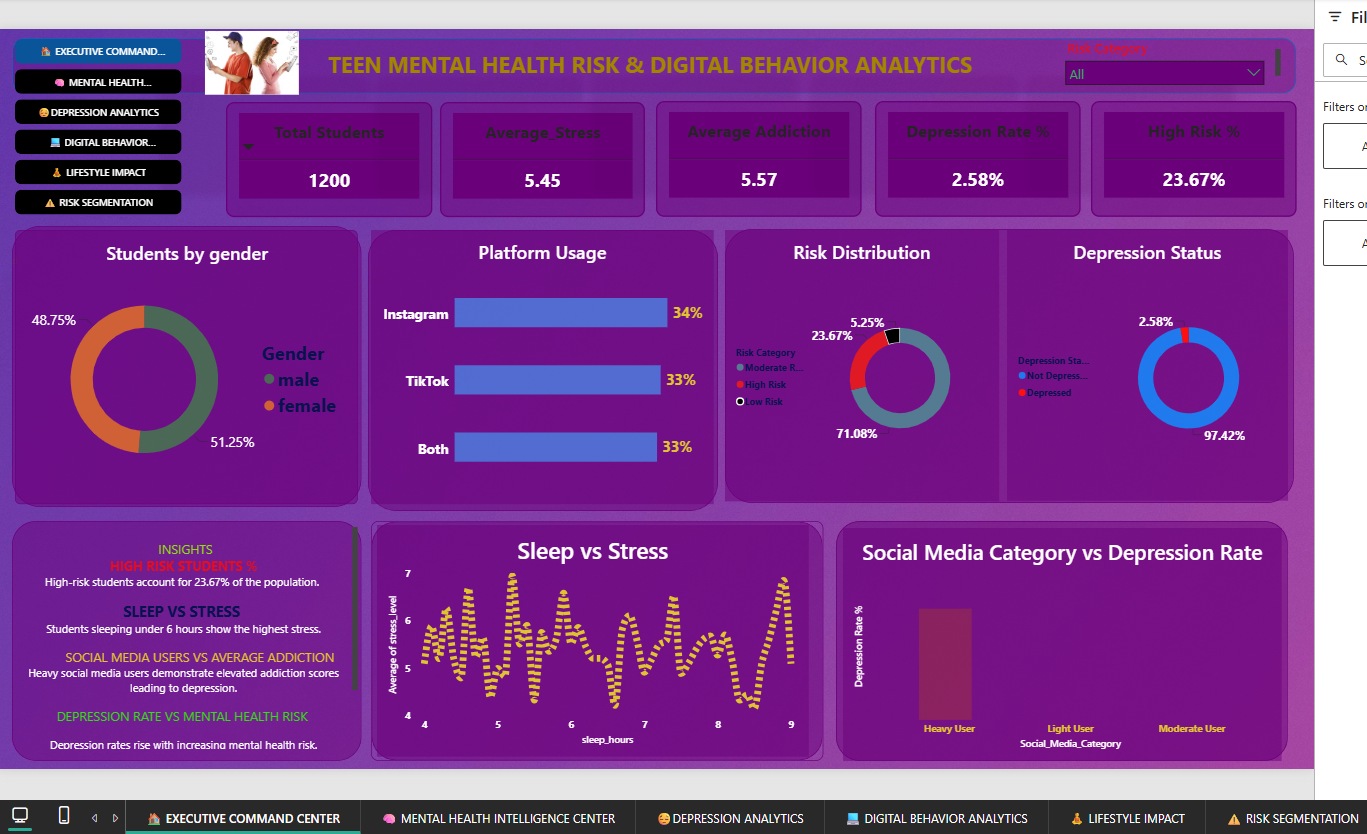

This screenshot's page, from the dashboard's own definition file:
{"tool":"powerbi","page":{"name":"🏠 EXECUTIVE COMMAND CENTER ","canvas":[1920,1080],"ordinal":0},"visuals":[{"type":"tableEx","fields":{"Values":["vw_mental_health_analytics.Total Students"]},"box":[332.6,106.5,300.5,167.8],"z":0},{"type":"tableEx","fields":{"Values":["vw_mental_health_analytics.Average_Stress"]},"box":[644.9,106.5,299.1,167.8],"z":1000},{"type":"tableEx","fields":{"Values":["vw_mental_health_analytics.Average Addiction"]},"box":[960.3,104.4,300,169.1],"z":2000},{"type":"tableEx","fields":{"Values":["vw_mental_health_analytics.Depression Rate %"]},"box":[1279.4,104.4,300,169.1],"z":3000},{"type":"tableEx","fields":{"Values":["vw_mental_health_analytics.High Risk %"]},"box":[1594.1,104.4,300,169.1],"z":4000},{"type":"textbox","box":[21,328.5,300,169],"z":5000},{"type":"shape","box":[20.6,13.2,1873.5,80.9],"z":6000},{"type":"textbox","box":[39.7,29.4,1832.4,41.2],"z":7000},{"type":"image","box":[197,2.9,347.2,93.4],"z":8000},{"type":"shape","box":[20.4,287.4,510,410],"z":9000},{"type":"shape","box":[539.8,293.3,510.6,410],"z":10000},{"type":"shape","box":[1060.7,291.8,830.2,399.8],"z":11000},{"type":"shape","box":[1222.6,717.8,659.5,350.2],"z":12000},{"type":"shape","box":[544.2,717.8,660,350.2],"z":13000},{"type":"shape","box":[20.4,717.8,510,350],"z":14000},{"type":"donutChart","title":" Students by gender","fields":{"Category":["vw_mental_health_analytics.gender"],"Y":["vw_mental_health_analytics.Total Students"]},"box":[24.8,293.3,500.4,399.8],"z":15000},{"type":"clusteredBarChart","title":"Platform Usage","fields":{"Category":["vw_mental_health_analytics.platform_usage"],"Y":["vw_mental_health_analytics.Total Students"]},"box":[544.2,293.3,500.4,399.8],"z":16000},{"type":"donutChart","title":"Risk Distribution","fields":{"Category":["vw_mental_health_analytics.Risk Category"],"Y":["vw_mental_health_analytics.Total Students"]},"box":[1060.7,293.3,399.8,396],"z":17000},{"type":"donutChart","title":"Depression Status","fields":{"Category":["vw_mental_health_analytics.Depression Status"],"Y":["vw_mental_health_analytics.Total Students"]},"box":[1472.1,293.3,410,395.4],"z":18000},{"type":"lineChart","title":"Sleep vs Stress","fields":{"Category":["vw_mental_health_analytics.sleep_hours"],"Y":["Avg(vw_mental_health_analytics.stress_level)"]},"box":[552.9,723.6,630,338.5],"z":19000},{"type":"clusteredColumnChart","title":"Social Media Category vs Depression Rate","fields":{"Category":["vw_mental_health_analytics.Social_Media_Category"],"Y":["vw_mental_health_analytics.Depression Rate %"]},"box":[1232.8,728,640,339.9],"z":20000},{"type":"textbox","box":[24.2,727.3,500,324.2],"z":21000},{"type":"slicer","fields":{"Values":["vw_mental_health_analytics.Risk Category"]},"box":[1552.9,14.7,300,80.9],"z":22000},{"type":"pageNavigator","box":[24.8,14.6,243.6,259.7],"z":23000}]}

Visuals, with their boxes on the page's 1920x1080 design canvas (x1, y1, x2, y2). These are canvas units, not pixel positions in the 1367x834 screenshot, which may show the page scaled, cropped or inside an application window:
tableEx - vw_mental_health_analytics.Total Students: x1=333 y1=106 x2=633 y2=274
tableEx - vw_mental_health_analytics.Average_Stress: x1=645 y1=106 x2=944 y2=274
tableEx - vw_mental_health_analytics.Average Addiction: x1=960 y1=104 x2=1260 y2=274
tableEx - vw_mental_health_analytics.Depression Rate %: x1=1279 y1=104 x2=1579 y2=274
tableEx - vw_mental_health_analytics.High Risk %: x1=1594 y1=104 x2=1894 y2=274
textbox: x1=21 y1=328 x2=321 y2=498
shape: x1=21 y1=13 x2=1894 y2=94
textbox: x1=40 y1=29 x2=1872 y2=71
image: x1=197 y1=3 x2=544 y2=96
shape: x1=20 y1=287 x2=530 y2=697
shape: x1=540 y1=293 x2=1050 y2=703
shape: x1=1061 y1=292 x2=1891 y2=692
shape: x1=1223 y1=718 x2=1882 y2=1068
shape: x1=544 y1=718 x2=1204 y2=1068
shape: x1=20 y1=718 x2=530 y2=1068
" Students by gender" donutChart: x1=25 y1=293 x2=525 y2=693
"Platform Usage" clusteredBarChart: x1=544 y1=293 x2=1045 y2=693
"Risk Distribution" donutChart: x1=1061 y1=293 x2=1460 y2=689
"Depression Status" donutChart: x1=1472 y1=293 x2=1882 y2=689
"Sleep vs Stress" lineChart: x1=553 y1=724 x2=1183 y2=1062
"Social Media Category vs Depression Rate" clusteredColumnChart: x1=1233 y1=728 x2=1873 y2=1068
textbox: x1=24 y1=727 x2=524 y2=1052
slicer - vw_mental_health_analytics.Risk Category: x1=1553 y1=15 x2=1853 y2=96
pageNavigator: x1=25 y1=15 x2=268 y2=274
